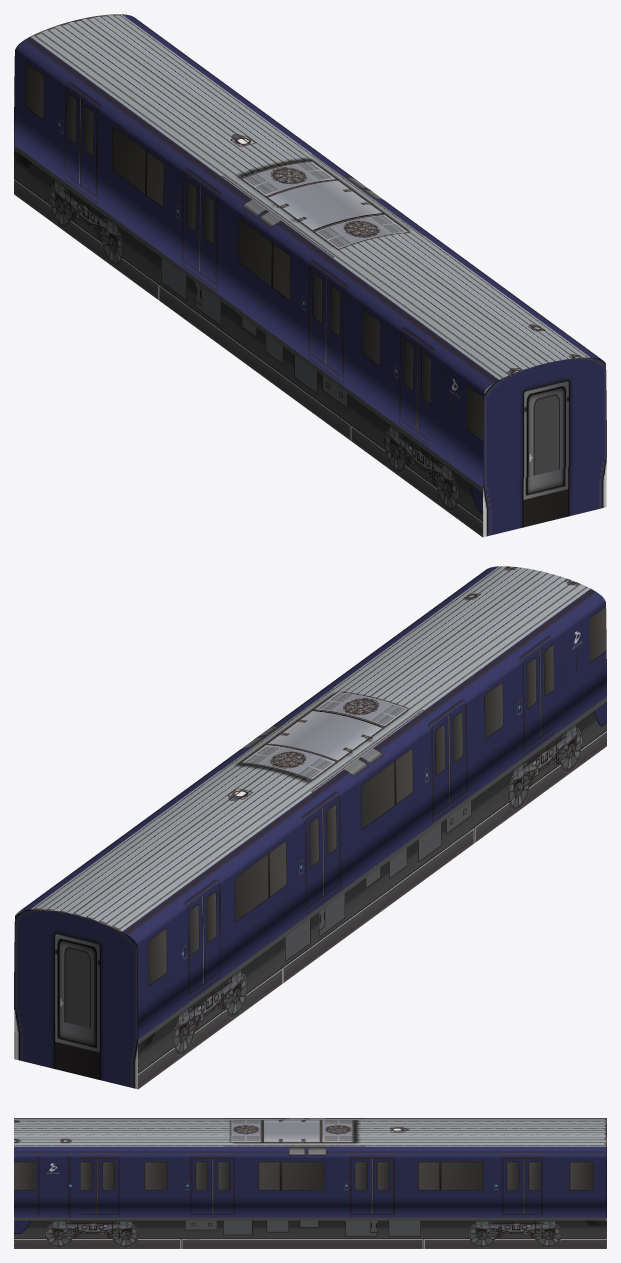
File: car2.glb
3 views of the same model, one above another, from view 1: azimuth 30°, elevation 25°; view 2: azimuth 150°, elevation 25°; view 3: azimuth 270°, elevation 25° (orthographic). The views are drawn at different scales.
Visible parts, largest first — view 1: sotetsu-12000-car2; view 2: sotetsu-12000-car2; view 3: sotetsu-12000-car2.
Boxes of the visible parts, <box> form: sotetsu-12000-car2: <box>14,14,606,537</box>; sotetsu-12000-car2: <box>14,566,606,1089</box>; sotetsu-12000-car2: <box>14,1118,606,1248</box>.
Size of the model in its own units: 2.95 by 3.62 by 19.35.
Materials: 7 (6 with a texture image).
